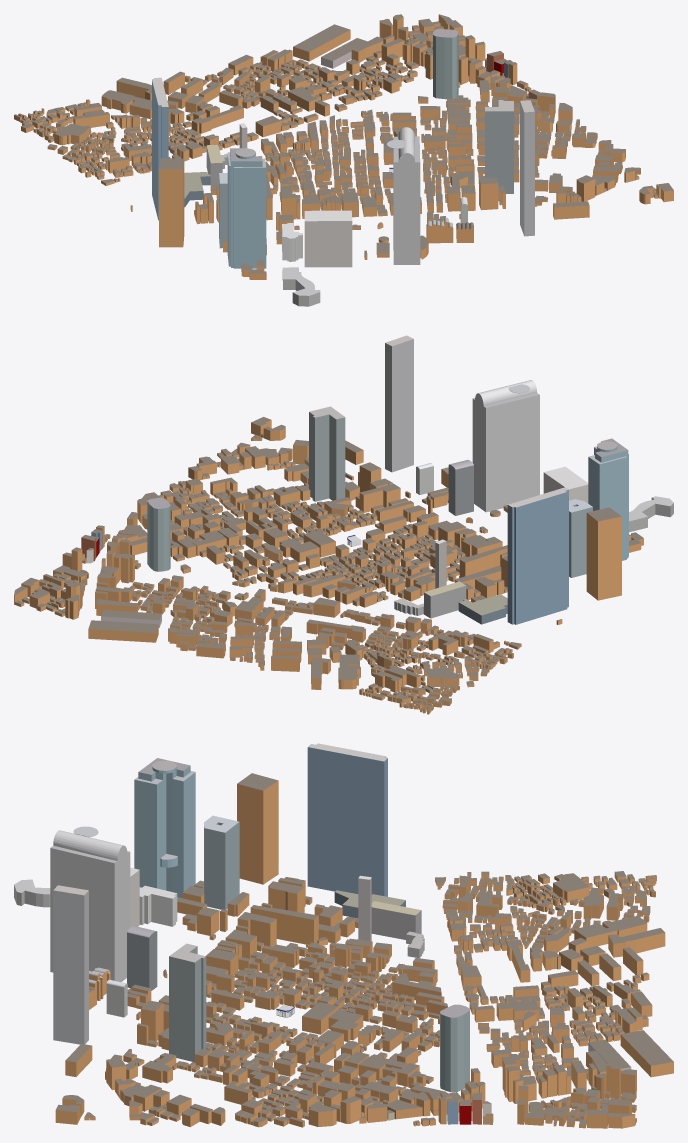
File: map6_hew15.glb
3 views of the same model, one above another, from view 1: azimuth 30°, elevation 25°; view 2: azimuth 150°, elevation 25°; view 3: azimuth 270°, elevation 25° (orthographic). The views are drawn at different scales.
Parts seen in each view (by area): view 1: map_20.osm_buildings; view 2: map_20.osm_buildings; view 3: map_20.osm_buildings.
Part boxes in pixels (x1,y1,x2,y2): map_20.osm_buildings: (14, 14, 673, 306); map_20.osm_buildings: (14, 335, 673, 714); map_20.osm_buildings: (14, 743, 673, 1128).
Bounding box in the file's own units: 229 × 61.2 × 244.
